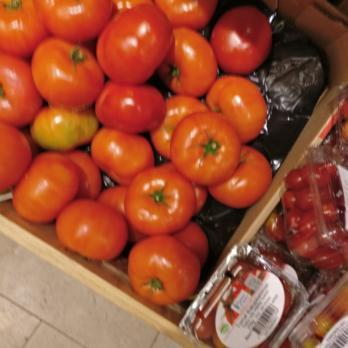Tomato: (4, 0, 177, 224), (172, 1, 275, 210), (96, 230, 203, 300)
